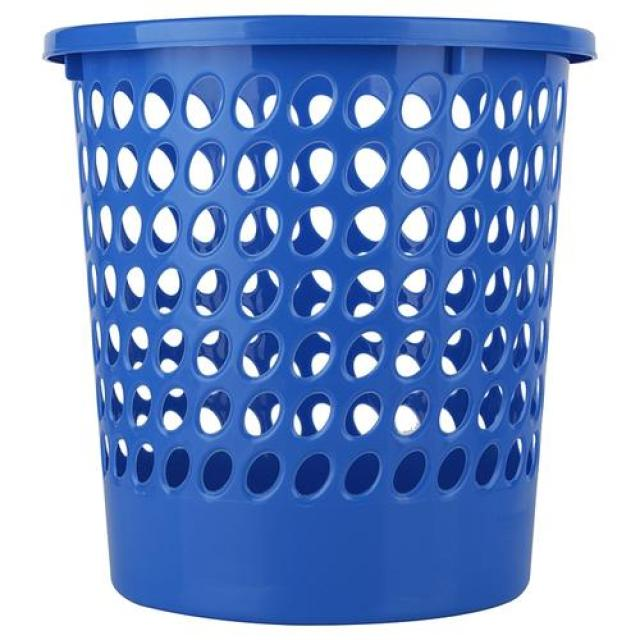dustbin: (26, 5, 609, 630)
